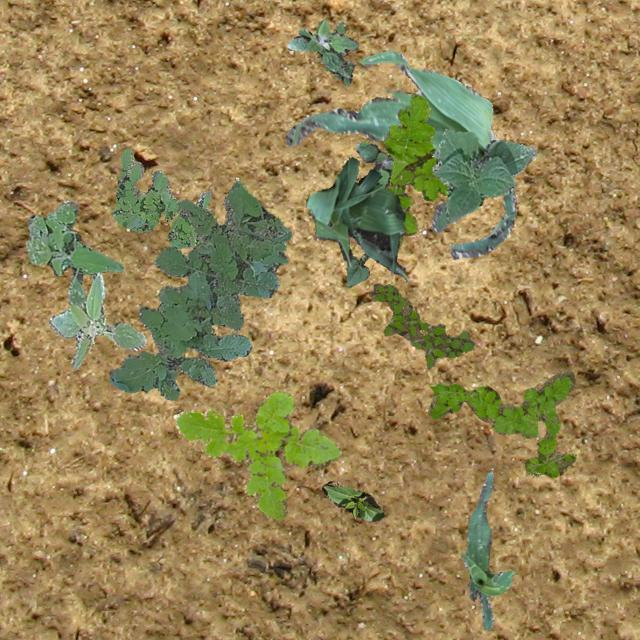crop: (284, 50, 516, 258), (305, 156, 405, 278), (432, 128, 536, 222), (461, 472, 514, 630), (320, 479, 384, 522), (346, 252, 368, 286)
weed: (108, 180, 290, 400), (174, 389, 340, 518), (428, 368, 574, 476), (24, 200, 122, 306), (382, 93, 448, 250), (112, 146, 210, 248), (48, 272, 146, 368), (368, 282, 472, 368), (286, 18, 358, 86), (356, 140, 394, 188)
